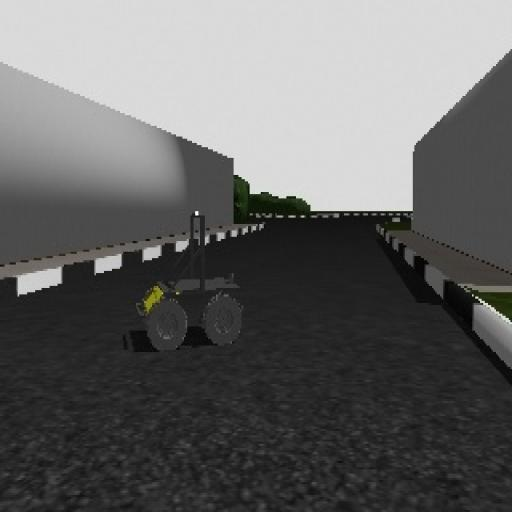huskya200: (124, 202, 255, 382)
